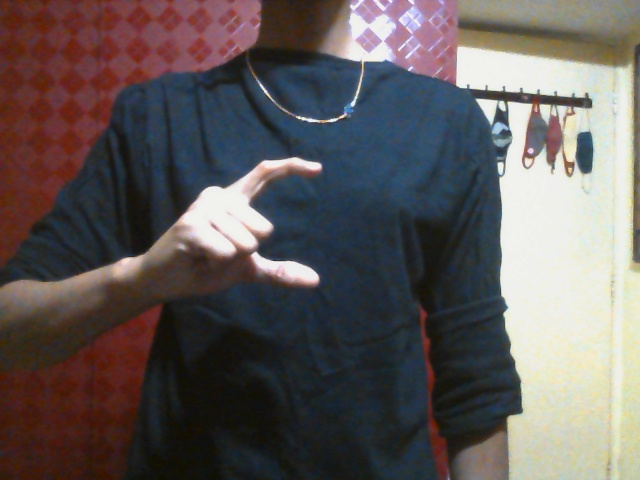C: (148, 156, 324, 297)
